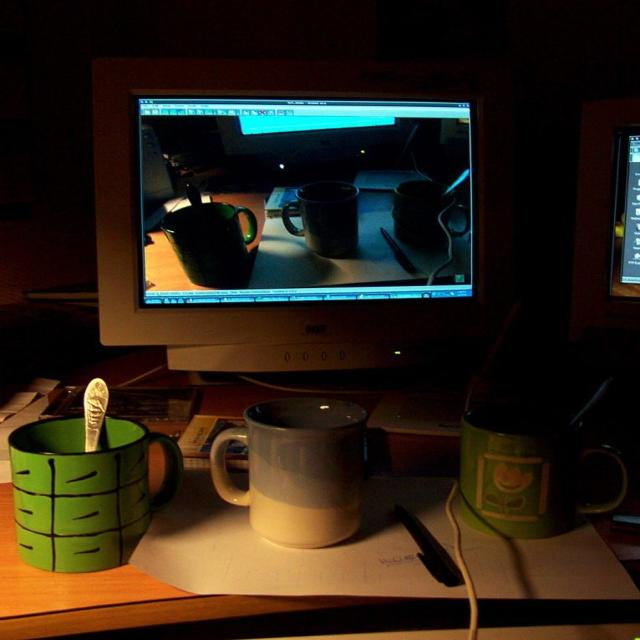Cup: (0, 393, 169, 592), (450, 388, 639, 531), (220, 395, 360, 550)
Table: (0, 353, 639, 640)
